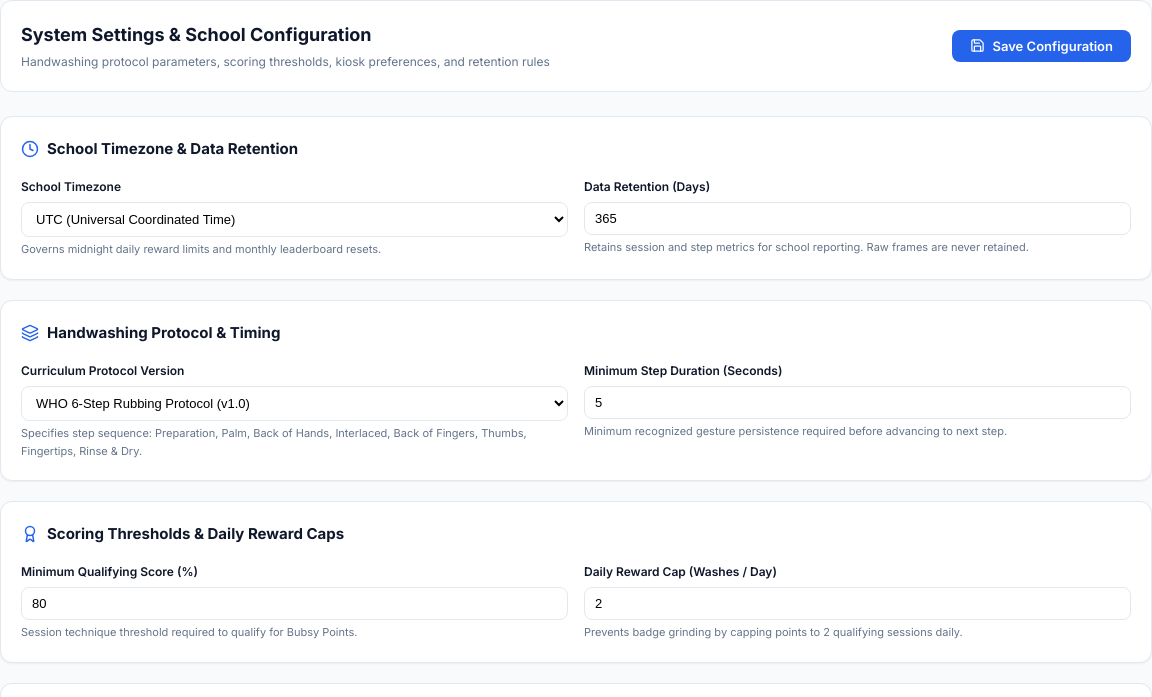
Test: SettingsPage Component › allows administrator to edit and save system configuration
expect the heading "System Settings & School Configuration" is shown: met, box x1=21 y1=24 x2=372 y2=45
expect the button "Save Configuration" is shown: met, box x1=952 y1=30 x2=1131 y2=62
Step 1. Replace the text in the number field labelled "Minimum Qualifying Score (%)" with "85" → [294, 604], box x1=21 y1=587 x2=568 y2=620
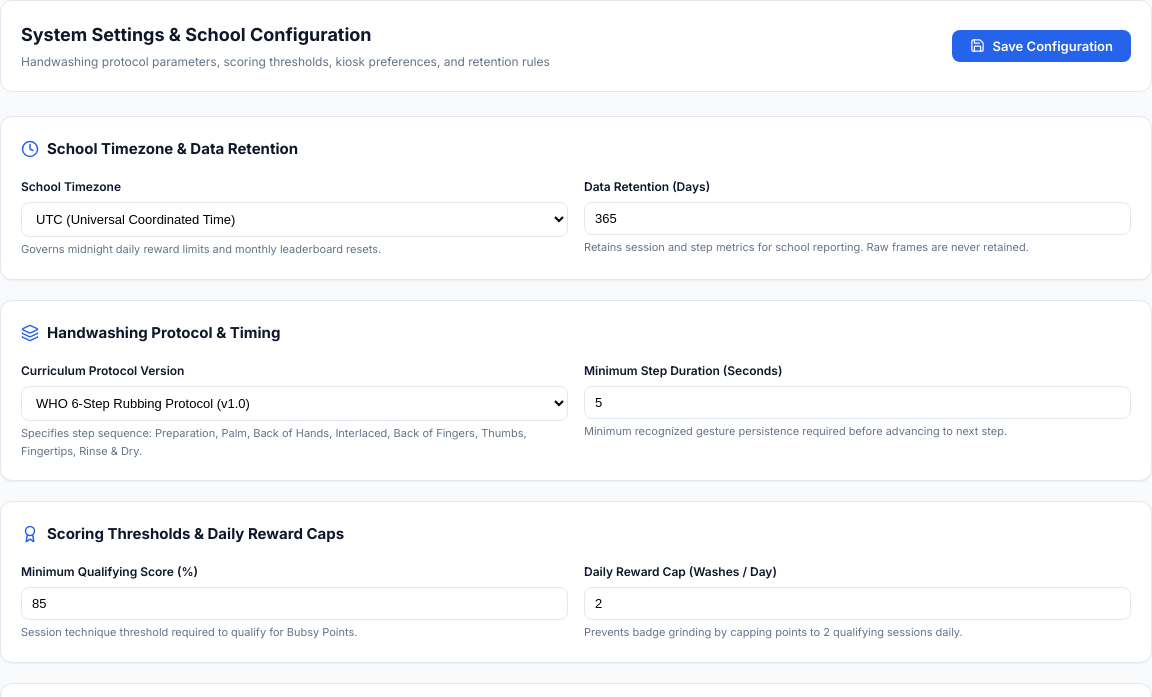
Step 2. Click the button "Save Configuration" → [1041, 46], box x1=952 y1=30 x2=1131 y2=62
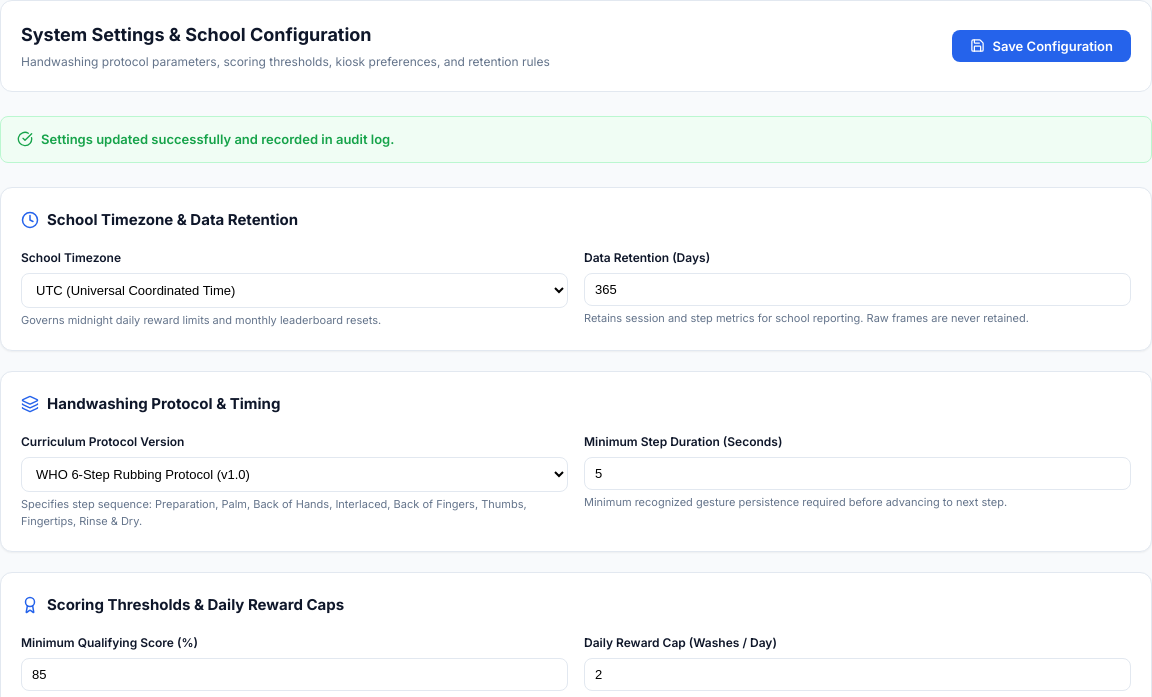
expect the text "Settings updated successfully and recorded in audit log." is shown: met, box x1=41 y1=129 x2=394 y2=150
